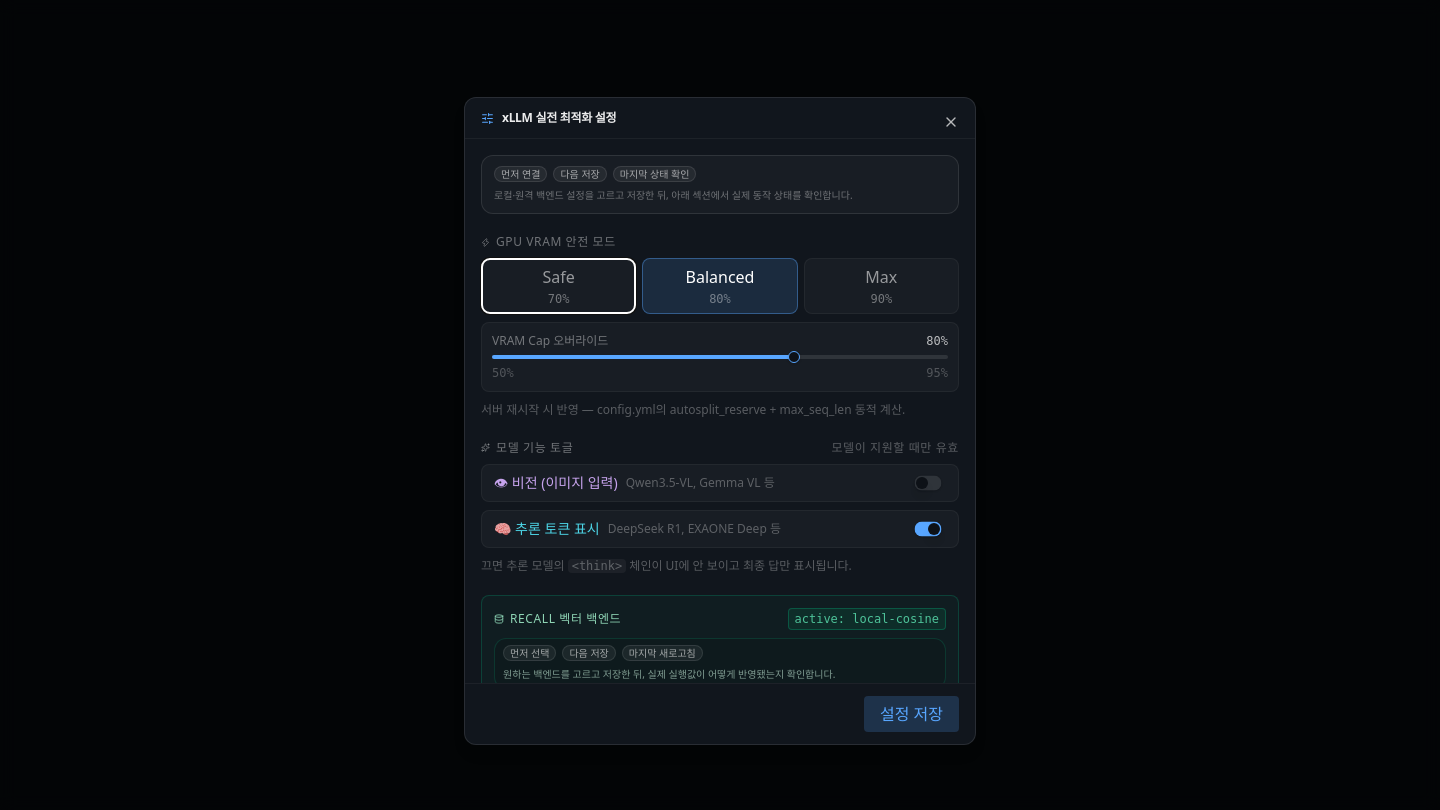
Test case: XllmPanel › 상단 설정 저장 실패 시 message 없는 객체 오류는 기본 문구로 노출한다
Click the button "설정 저장": {"x": 912, "y": 714} [864,696,959,732]
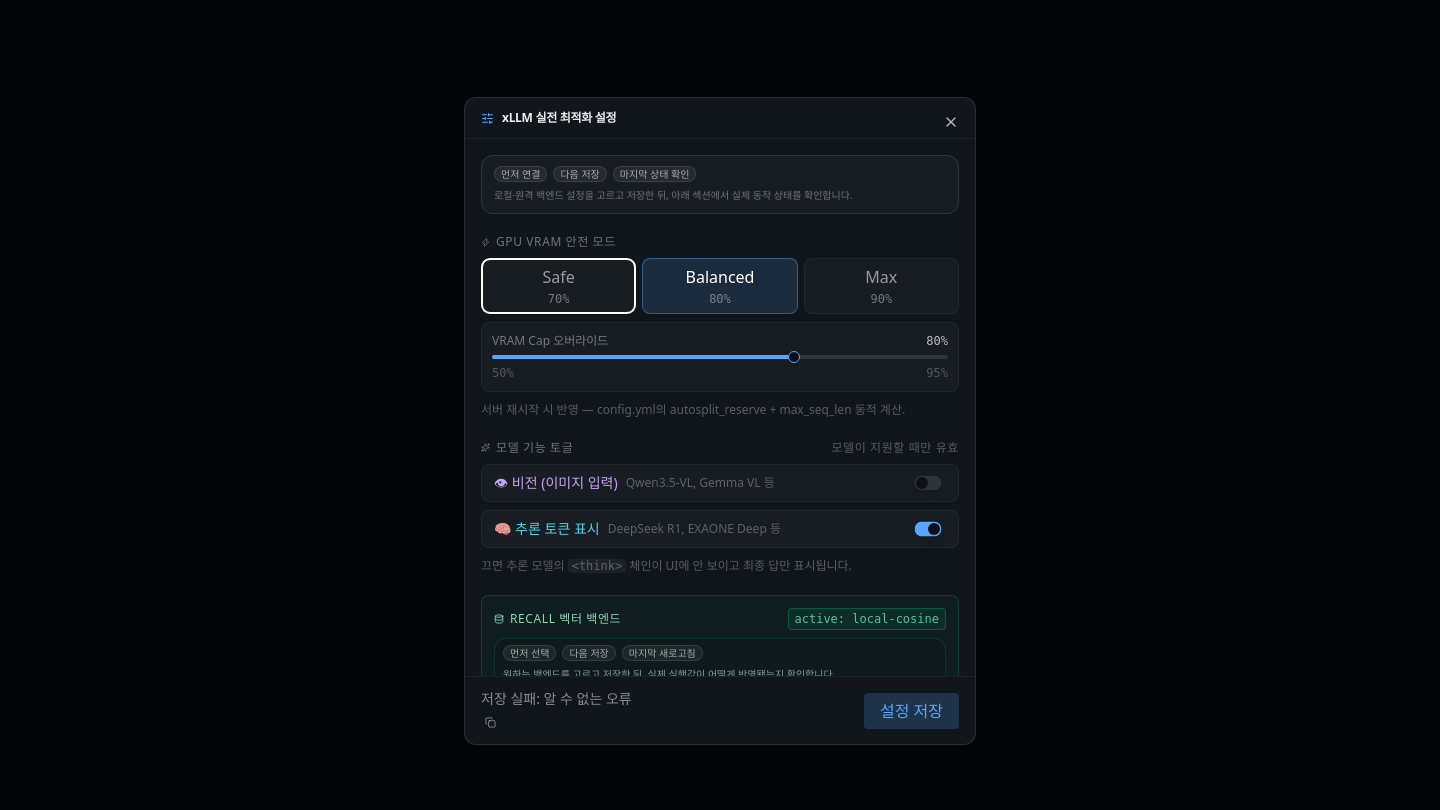
Now the text "저장 실패: 알 수 없는 오류" is shown, box [481,689,632,708]
